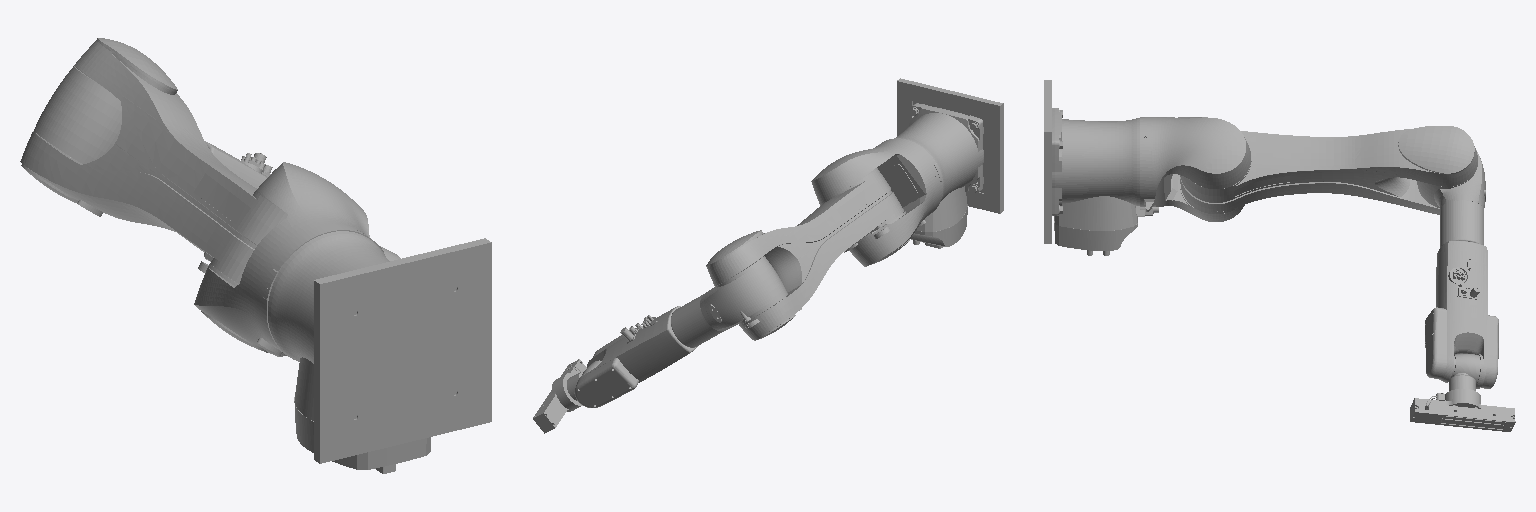
robot.urdf — kr10_arm:
<?xml version="1.0" ?>
<robot name="kr10_arm">

<material name="silver"><color rgba="0.700 0.700 0.700 1.000"/></material>
<material name="black"><color rgba="0.0 0.0 0.0 1.0"/></material>
<material name="white"><color rgba="1.0 1.0 1.0 1.0"/></material>
<material name="orange"><color rgba="1.0 0.55 0.0 1.0"/></material>



<link name="base_link">
  <inertial>
    <origin xyz="0.1861831360940044 -0.1594996180691991 -0.5579340066762665" rpy="0 0 0"/>
    <mass value="94.29951890589429"/>
    <inertia ixx="1.096073" iyy="0.950065" izz="0.756536" ixy="-6.6e-05" iyz="0.044667" ixz="-0.000823"/>
  </inertial>
  <visual>
    <origin xyz="0 0 0" rpy="0 0 0"/>
    <geometry>
      <mesh filename="meshes/base_link.stl" scale="0.001 0.001 0.001"/>
    </geometry>
    <material name="silver"/>
  </visual>
  <collision>
    <origin xyz="0 0 0" rpy="0 0 0"/>
    <geometry>
      <mesh filename="meshes/base_link.stl" scale="0.001 0.001 0.001"/>
    </geometry>
  </collision>
</link>

<link name="KR10_R1100_sixx_CR_01_1">
  <inertial>
    <origin xyz="0.0075937763392029956 0.10872078233873679 0.0031484004455062387" rpy="0 0 0"/>
    <mass value="49.25911454345063"/>
    <inertia ixx="0.524901" iyy="0.441697" izz="0.466428" ixy="-0.035774" iyz="-0.021658" ixz="0.09829"/>
  </inertial>
  <visual>
    <origin xyz="-0.186226 0.031 0.519026" rpy="0 0 0"/>
    <geometry>
      <mesh filename="meshes/KR10_R1100_sixx_CR_01_1.stl" scale="0.001 0.001 0.001"/>
    </geometry>
    <material name="silver"/>
  </visual>
  <collision>
    <origin xyz="-0.186226 0.031 0.519026" rpy="0 0 0"/>
    <geometry>
      <mesh filename="meshes/KR10_R1100_sixx_CR_01_1.stl" scale="0.001 0.001 0.001"/>
    </geometry>
  </collision>
</link>

<link name="end_effector_v1_1">
  <inertial>
    <origin xyz="-0.032871420104439275 0.015252527654309178 -0.015446971688058364" rpy="0 0 0"/>
    <mass value="5.440109388516065"/>
    <inertia ixx="0.019276" iyy="0.006466" izz="0.022179" ixy="-0.006718" iyz="-0.000872" ixz="-0.000414"/>
  </inertial>
  <visual>
    <origin xyz="-0.188786 -1.272182 0.498821" rpy="0 0 0"/>
    <geometry>
      <mesh filename="meshes/end_effector_v1_1.stl" scale="0.001 0.001 0.001"/>
    </geometry>
    <material name="silver"/>
  </visual>
  <collision>
    <origin xyz="-0.188786 -1.272182 0.498821" rpy="0 0 0"/>
    <geometry>
      <mesh filename="meshes/end_effector_v1_1.stl" scale="0.001 0.001 0.001"/>
    </geometry>
  </collision>
</link>

<link name="KR10_R1100_sixx_CR_05_1">
  <inertial>
    <origin xyz="-0.052273687091675736 -0.003622808003135969 0.03136390813901768" rpy="0 0 0"/>
    <mass value="3.6259199733283825"/>
    <inertia ixx="0.014546" iyy="0.064109" izz="0.070711" ixy="-0.022193" iyz="0.004948" ixz="0.011233"/>
  </inertial>
  <visual>
    <origin xyz="-0.27203 -1.242782 0.502762" rpy="0 0 0"/>
    <geometry>
      <mesh filename="meshes/KR10_R1100_sixx_CR_05_1.stl" scale="0.001 0.001 0.001"/>
    </geometry>
    <material name="silver"/>
  </visual>
  <collision>
    <origin xyz="-0.27203 -1.242782 0.502762" rpy="0 0 0"/>
    <geometry>
      <mesh filename="meshes/KR10_R1100_sixx_CR_05_1.stl" scale="0.001 0.001 0.001"/>
    </geometry>
  </collision>
</link>

<link name="Wrist_1">
  <inertial>
    <origin xyz="0.022305924738296373 0.15724826781260837 0.01659202684949196" rpy="0 0 0"/>
    <mass value="30.07522579715273"/>
    <inertia ixx="0.298804" iyy="0.081447" izz="0.283216" ixy="-0.034281" iyz="-0.021395" ixz="0.008346"/>
  </inertial>
  <visual>
    <origin xyz="-0.210802 -0.934612 0.500681" rpy="0 0 0"/>
    <geometry>
      <mesh filename="meshes/Wrist_1.stl" scale="0.001 0.001 0.001"/>
    </geometry>
    <material name="silver"/>
  </visual>
  <collision>
    <origin xyz="-0.210802 -0.934612 0.500681" rpy="0 0 0"/>
    <geometry>
      <mesh filename="meshes/Wrist_1.stl" scale="0.001 0.001 0.001"/>
    </geometry>
  </collision>
</link>

<link name="KR10_R1100_sixx_CR_03_1">
  <inertial>
    <origin xyz="-0.0457620299374957 0.05739141289916183 0.050049441960306806" rpy="0 0 0"/>
    <mass value="30.34731102117061"/>
    <inertia ixx="0.235465" iyy="0.072065" izz="0.237362" ixy="0.004053" iyz="0.003001" ixz="-0.003305"/>
  </inertial>
  <visual>
    <origin xyz="-0.246637 -0.705 0.558163" rpy="0 0 0"/>
    <geometry>
      <mesh filename="meshes/KR10_R1100_sixx_CR_03_1.stl" scale="0.001 0.001 0.001"/>
    </geometry>
    <material name="silver"/>
  </visual>
  <collision>
    <origin xyz="-0.246637 -0.705 0.558163" rpy="0 0 0"/>
    <geometry>
      <mesh filename="meshes/KR10_R1100_sixx_CR_03_1.stl" scale="0.001 0.001 0.001"/>
    </geometry>
  </collision>
</link>

<link name="KR10_R1100_sixx_CR_02_1">
  <inertial>
    <origin xyz="0.026283115697211784 0.2612232849568521 -0.049126520112941885" rpy="0 0 0"/>
    <mass value="78.8587590799443"/>
    <inertia ixx="3.563213" iyy="0.350244" izz="3.521824" ixy="0.003039" iyz="0.011596" ixz="0.06619"/>
  </inertial>
  <visual>
    <origin xyz="-0.170668 -0.145 0.45639" rpy="0 0 0"/>
    <geometry>
      <mesh filename="meshes/KR10_R1100_sixx_CR_02_1.stl" scale="0.001 0.001 0.001"/>
    </geometry>
    <material name="silver"/>
  </visual>
  <collision>
    <origin xyz="-0.170668 -0.145 0.45639" rpy="0 0 0"/>
    <geometry>
      <mesh filename="meshes/KR10_R1100_sixx_CR_02_1.stl" scale="0.001 0.001 0.001"/>
    </geometry>
  </collision>
</link>

<joint name="joint_1" type="revolute">
  <origin xyz="0.186226 -0.031 -0.519026" rpy="0 0 0"/>
  <parent link="base_link"/>
  <child link="KR10_R1100_sixx_CR_01_1"/>
  <axis xyz="-0.0 1.0 0.0"/>
  <limit upper="1.396263" lower="-4.537856" effort="100" velocity="100"/>
</joint>

<joint name="joint_6" type="revolute">
  <origin xyz="-0.083244 0.0294 0.003941" rpy="0 0 0"/>
  <parent link="KR10_R1100_sixx_CR_05_1"/>
  <child link="end_effector_v1_1"/>
  <axis xyz="0.834422 -0.387224 0.39217"/>
  <limit upper="6.108652" lower="-6.108652" effort="100" velocity="100"/>
</joint>

<joint name="joint_5" type="revolute">
  <origin xyz="0.061228 0.30817 -0.002081" rpy="0 0 0"/>
  <parent link="Wrist_1"/>
  <child link="KR10_R1100_sixx_CR_05_1"/>
  <axis xyz="-0.437807 -0.033503 0.898444"/>
  <limit upper="2.094395" lower="-2.094395" effort="100" velocity="100"/>
</joint>

<joint name="joint_4" type="revolute">
  <origin xyz="-0.035835 0.229612 0.057482" rpy="0 0 0"/>
  <parent link="KR10_R1100_sixx_CR_03_1"/>
  <child link="Wrist_1"/>
  <axis xyz="0.141622 0.98426 0.105715"/>
  <limit upper="3.228859" lower="-3.228859" effort="100" velocity="100"/>
</joint>

<joint name="joint_3" type="revolute">
  <origin xyz="0.075969 0.56 -0.101773" rpy="0 0 0"/>
  <parent link="KR10_R1100_sixx_CR_02_1"/>
  <child link="KR10_R1100_sixx_CR_03_1"/>
  <axis xyz="-0.598183 -0.0 0.80136"/>
  <limit upper="3.665191" lower="-1.151917" effort="100" velocity="100"/>
</joint>

<joint name="joint_2" type="revolute">
  <origin xyz="-0.015558 0.176 0.062636" rpy="0 0 0"/>
  <parent link="KR10_R1100_sixx_CR_01_1"/>
  <child link="KR10_R1100_sixx_CR_02_1"/>
  <axis xyz="0.598183 0.0 -0.80136"/>
  <limit upper="2.356194" lower="-1.745329" effort="100" velocity="100"/>
</joint>

</robot>

--- Render facts (derived) ---
The picture shows the robot from 3 angles, left to right: view 1: azimuth 30°, elevation 25°; view 2: azimuth 150°, elevation 25°; view 3: azimuth 270°, elevation 25°; orthographic projection.
Model kr10_arm with 7 links and 6 joints (6 revolute), rooted at base_link, posed all joints at 0.
Links seen in each view (by area): view 1: base_link, KR10_R1100_sixx_CR_02_1, KR10_R1100_sixx_CR_01_1, KR10_R1100_sixx_CR_03_1, Wrist_1; view 2: base_link, KR10_R1100_sixx_CR_02_1, KR10_R1100_sixx_CR_01_1, Wrist_1, KR10_R1100_sixx_CR_03_1, end_effector_v1_1; view 3: KR10_R1100_sixx_CR_02_1, base_link, KR10_R1100_sixx_CR_01_1, Wrist_1, KR10_R1100_sixx_CR_03_1, end_effector_v1_1, KR10_R1100_sixx_CR_05_1.
Link boxes in pixels (x1,y1,x2,y2): base_link: (268,231,491,473); KR10_R1100_sixx_CR_02_1: (20,38,287,283); KR10_R1100_sixx_CR_01_1: (194,162,384,361); KR10_R1100_sixx_CR_03_1: (34,66,121,163); Wrist_1: (205,141,272,188); base_link: (896,78,1003,248); KR10_R1100_sixx_CR_02_1: (706,168,903,340); KR10_R1100_sixx_CR_01_1: (811,138,942,266); Wrist_1: (574,306,697,407); KR10_R1100_sixx_CR_03_1: (671,256,787,347); end_effector_v1_1: (533,359,586,433); KR10_R1100_sixx_CR_02_1: (1180,126,1477,214); base_link: (1044,80,1158,255); KR10_R1100_sixx_CR_01_1: (1140,117,1250,221); Wrist_1: (1425,241,1498,388); KR10_R1100_sixx_CR_03_1: (1417,150,1485,247); end_effector_v1_1: (1410,389,1515,431); KR10_R1100_sixx_CR_05_1: (1449,354,1480,390).
Size in the robot's own frame: 0.7478 by 1.14 by 0.6221 metres.
Meshes: 7 distinct files referenced, 7 mesh visuals loaded (7 binary STL).
